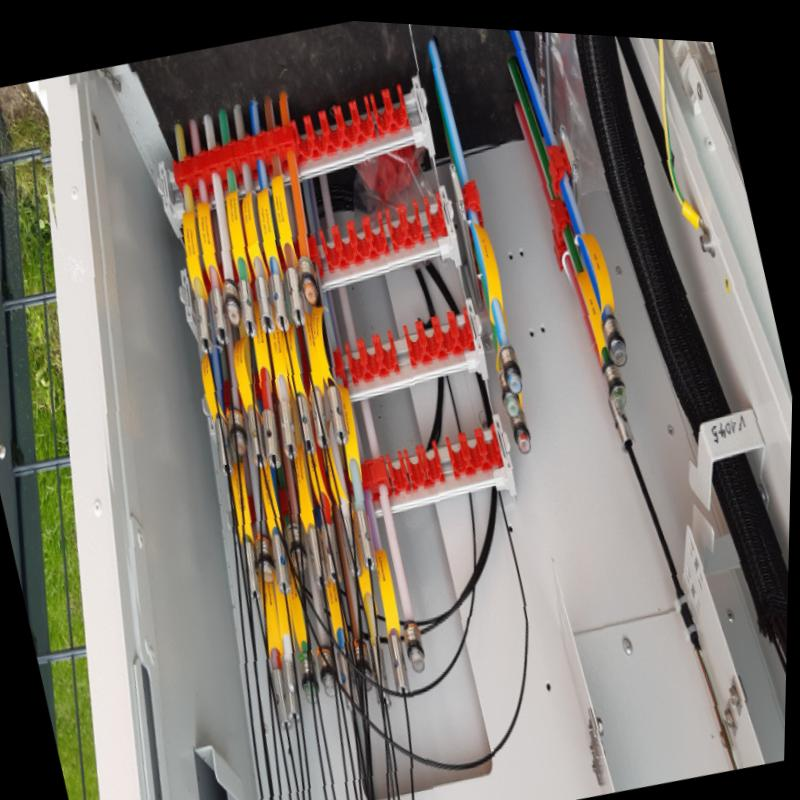NT-Gehause: (7, 1, 800, 800)
